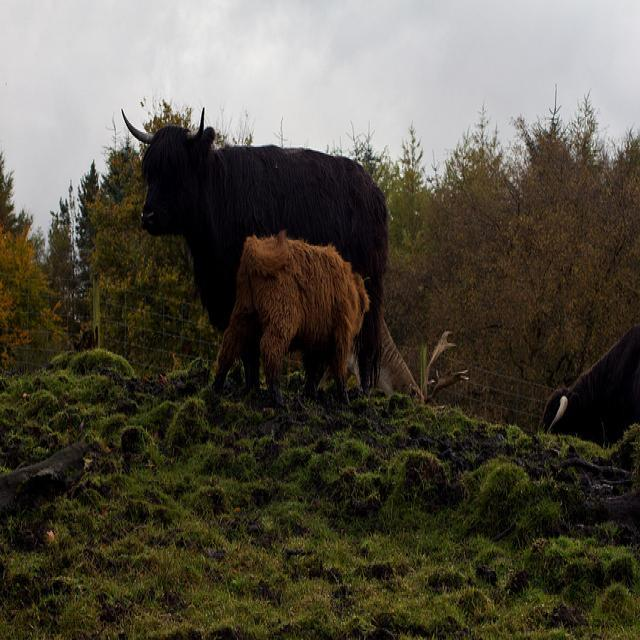cow: (119, 102, 383, 388), (205, 234, 371, 427), (536, 324, 639, 445)
